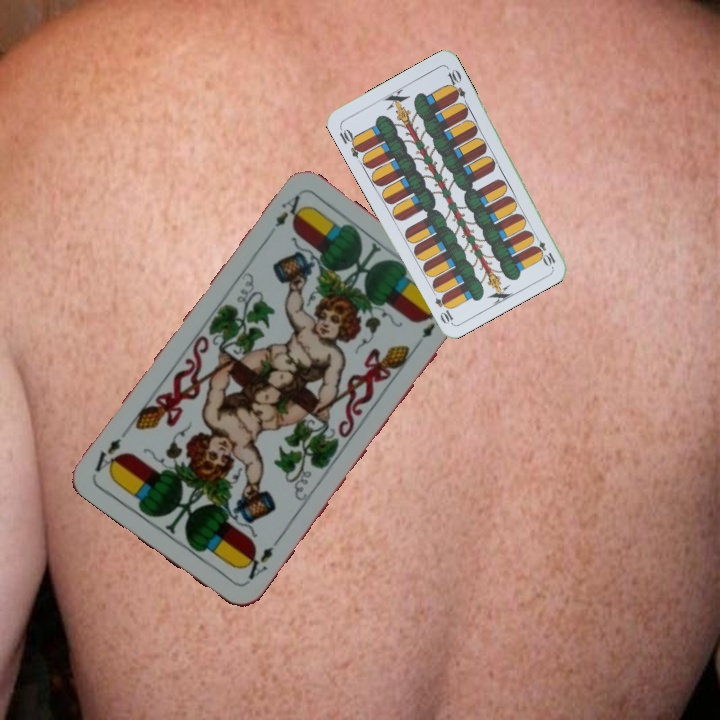E10: (335, 123, 366, 160), (529, 231, 558, 269)
EA: (263, 191, 308, 241), (237, 542, 276, 587)
